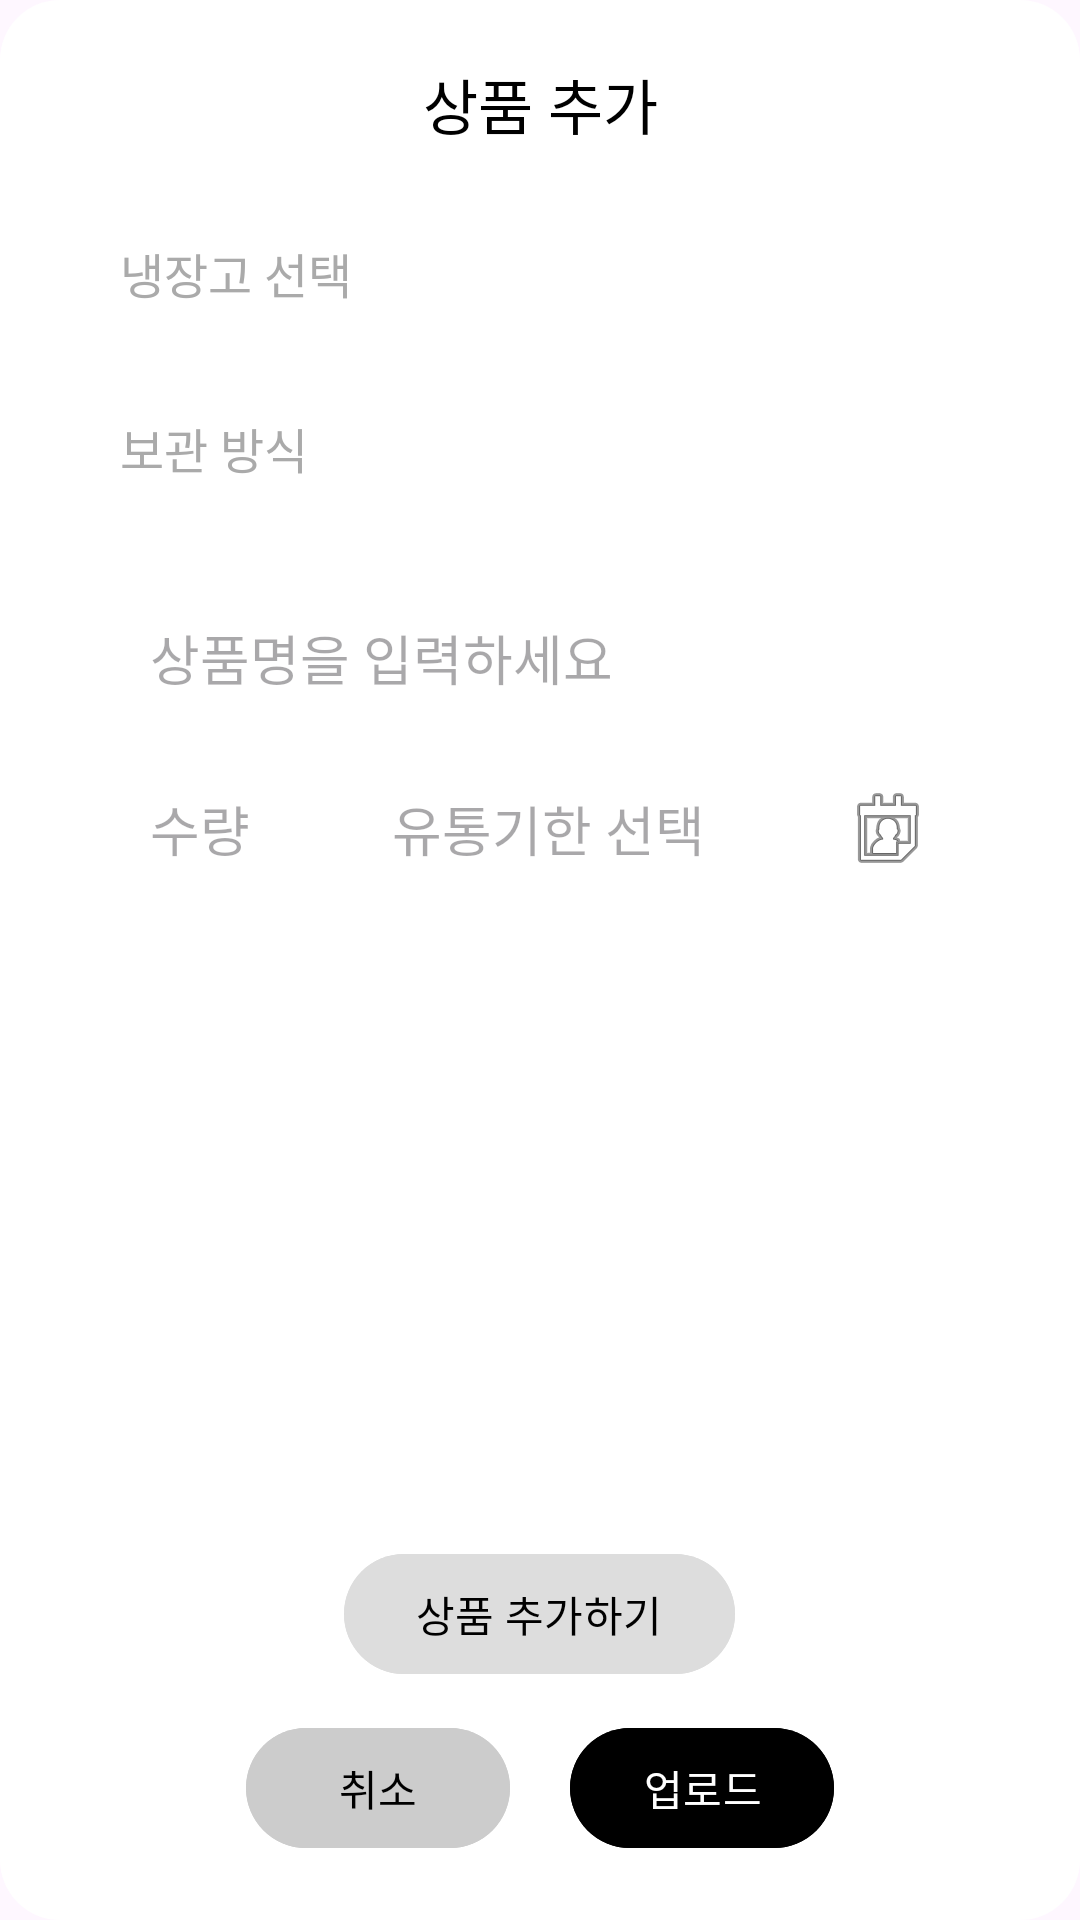

Icons on this 1080px×1920px Android screen, each with the point to tap as (x,y):
calendar: (888,828)
